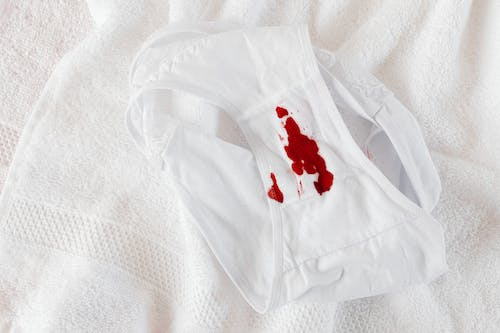blood: (266, 104, 334, 205)
